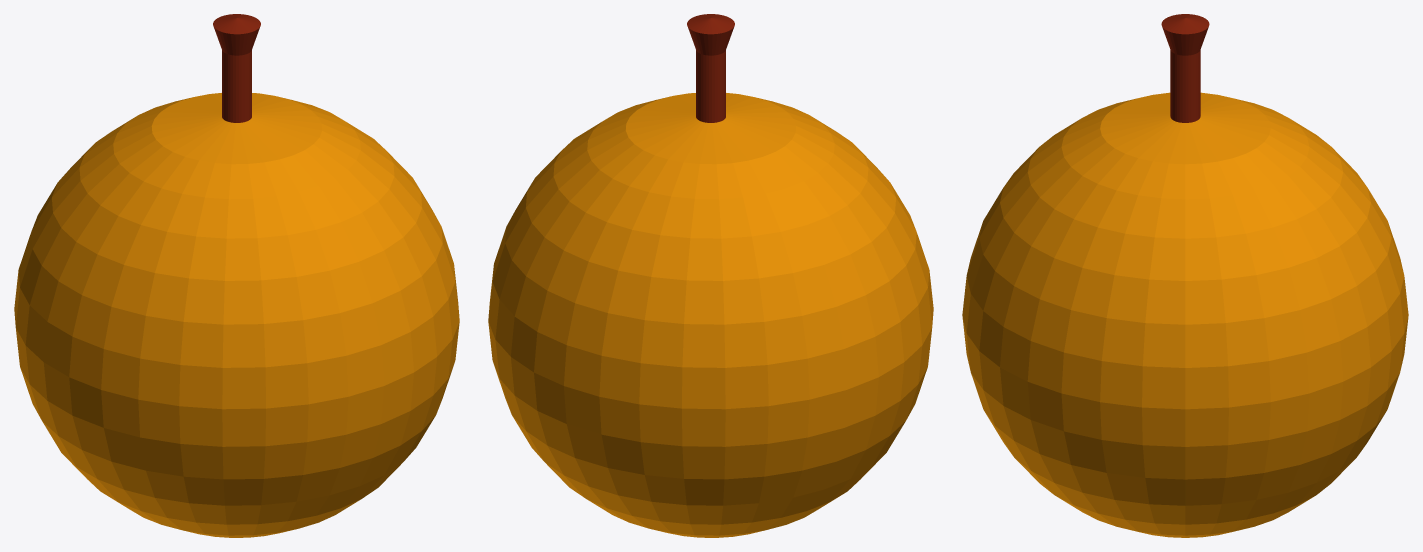
The model's file is Orange.fbx.
The picture shows the model from 3 angles, left to right: view 1: azimuth 30°, elevation 25°; view 2: azimuth 150°, elevation 25°; view 3: azimuth 270°, elevation 25°; orthographic projection.
Visible parts, largest first — view 1: Sphere; view 2: Sphere; view 3: Sphere.
Boxes of the visible parts, x1,y1,x2,y2 form: Sphere: (14, 14, 459, 537); Sphere: (488, 14, 933, 537); Sphere: (962, 14, 1408, 537).
Bounding box in the file's own units: 200 × 247 × 200.
